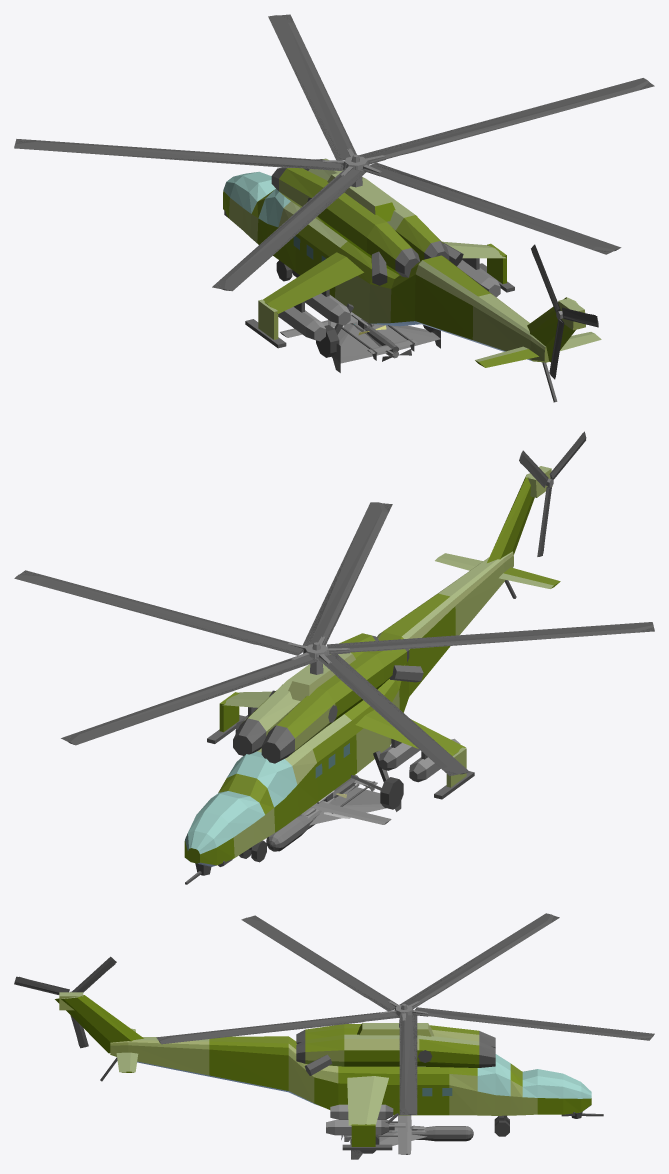
The model's file is drones.glb.
3 views of the same model, one above another, from view 1: azimuth 30°, elevation 25°; view 2: azimuth 150°, elevation 25°; view 3: azimuth 270°, elevation 25° (orthographic). The views are drawn at different scales.
Parts seen in each view (by area): view 1: drones_102_lod0, drones_102_lod1_part1, drones_102_lod2_part1, drones_100_lod0, drones_102_lod0_part1, drones_102_lod0_part2, drones_103_lod0; view 2: drones_102_lod0, drones_102_lod1_part1, drones_102_lod2_part1, drones_102_lod0_part1, drones_100_lod0, drones_102_lod0_part2, drones_103_lod0, drones_101_lod0; view 3: drones_102_lod0, drones_102_lod1_part1, drones_102_lod2_part1, drones_100_lod0, drones_102_lod0_part2, drones_102_lod0_part1, drones_103_lod0, drones_101_lod0.
Boxes of the visible parts, x1,y1,x2,y2 form: drones_102_lod0: [223, 158, 601, 402]; drones_102_lod1_part1: [14, 15, 649, 290]; drones_102_lod2_part1: [14, 14, 654, 291]; drones_100_lod0: [331, 323, 440, 372]; drones_102_lod0_part1: [15, 23, 632, 290]; drones_102_lod0_part2: [531, 245, 598, 378]; drones_103_lod0: [280, 312, 417, 360]; drones_102_lod0: [184, 466, 560, 884]; drones_102_lod1_part1: [15, 502, 653, 774]; drones_102_lod2_part1: [14, 502, 654, 775]; drones_102_lod0_part1: [18, 511, 653, 773]; drones_100_lod0: [278, 783, 401, 847]; drones_102_lod0_part2: [519, 432, 586, 556]; drones_103_lod0: [301, 779, 391, 828]; drones_101_lod0: [266, 775, 358, 851]; drones_102_lod0: [55, 992, 603, 1153]; drones_102_lod1_part1: [159, 913, 654, 1114]; drones_102_lod2_part1: [156, 913, 654, 1114]; drones_100_lod0: [343, 1119, 462, 1159]; drones_102_lod0_part2: [14, 957, 116, 1047]; drones_102_lod0_part1: [159, 919, 654, 1115]; drones_103_lod0: [344, 1115, 426, 1154]; drones_101_lod0: [435, 1126, 473, 1141].
Size of what is drawn, in the model's own units: 261 by 108 by 350.
